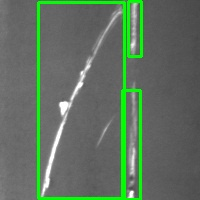scratches: (38, 2, 124, 198), (122, 90, 140, 199), (128, 1, 141, 56)
